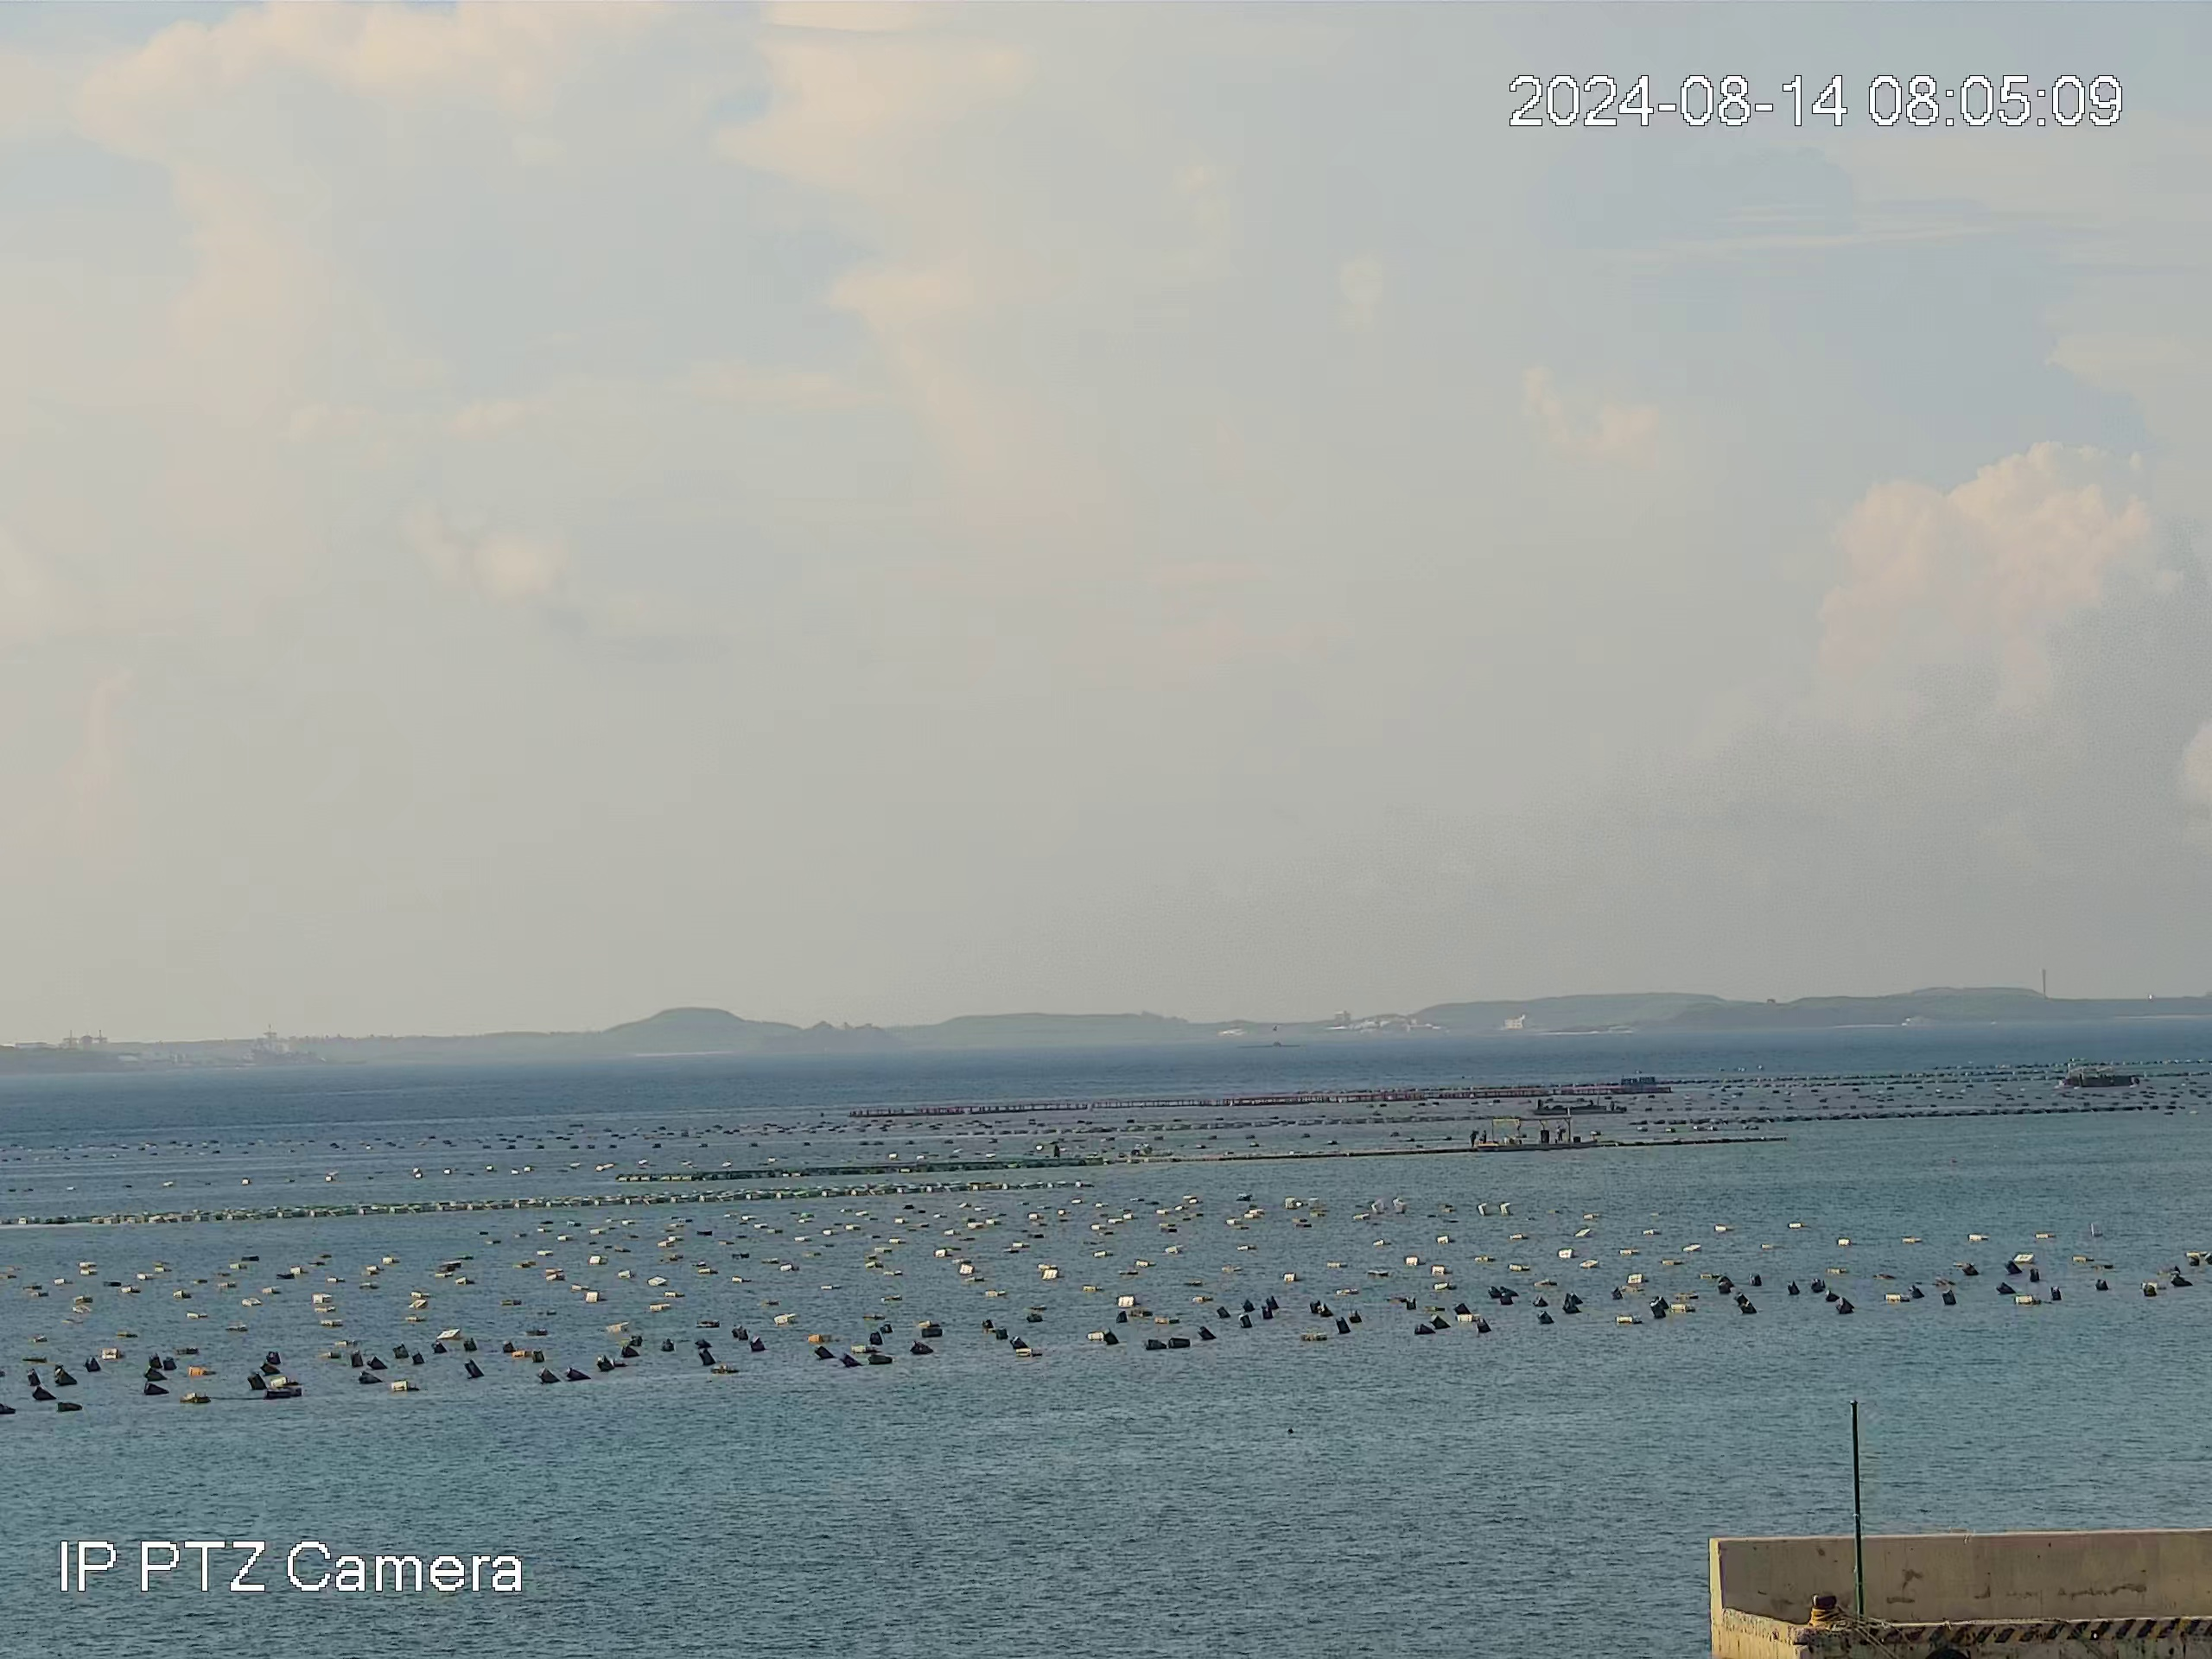boat: (1479, 1119, 1575, 1145), (2060, 1066, 2141, 1091), (1536, 1094, 1625, 1114)
